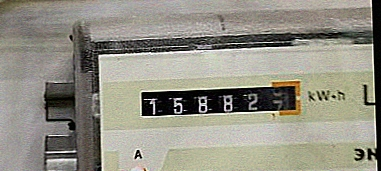1: (148, 96, 157, 114)
2: (246, 91, 259, 111)
5: (170, 95, 184, 115)
7: (271, 97, 283, 109)
8: (220, 91, 234, 113), (197, 93, 209, 114)
screen: (135, 78, 305, 124)
